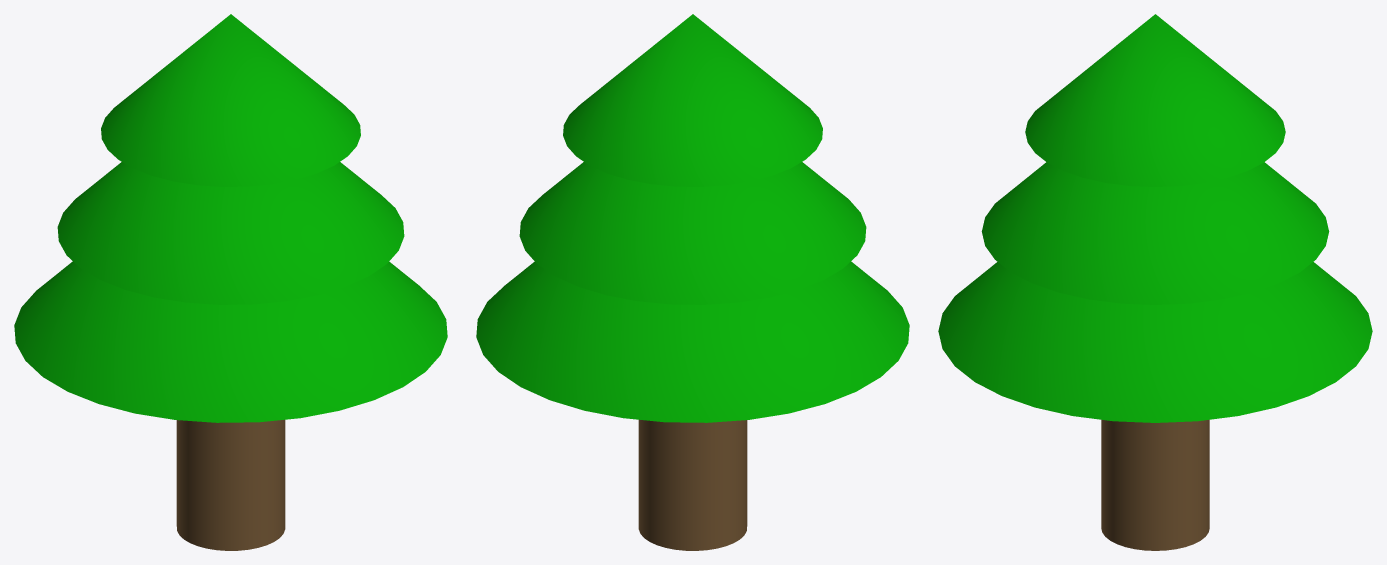
File: tree_01.fbx
The picture shows the model from 3 angles, left to right: view 1: azimuth 30°, elevation 25°; view 2: azimuth 150°, elevation 25°; view 3: azimuth 270°, elevation 25°; orthographic projection.
Visible parts, largest first — view 1: tree_01; view 2: tree_01; view 3: tree_01.
Boxes of the visible parts, bbox=[...] form: tree_01: bbox=[14, 14, 447, 550]; tree_01: bbox=[476, 14, 909, 550]; tree_01: bbox=[938, 14, 1372, 550].
Bounding box in the file's own units: 200 × 261 × 200.
